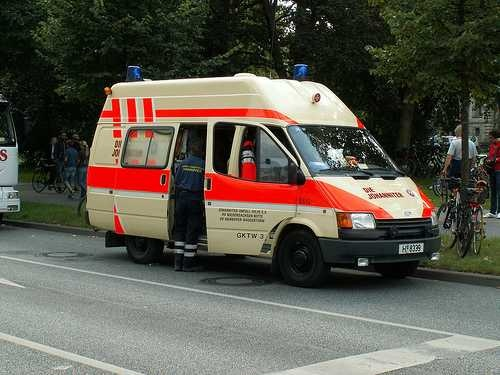Ambulance: (69, 55, 468, 279)
